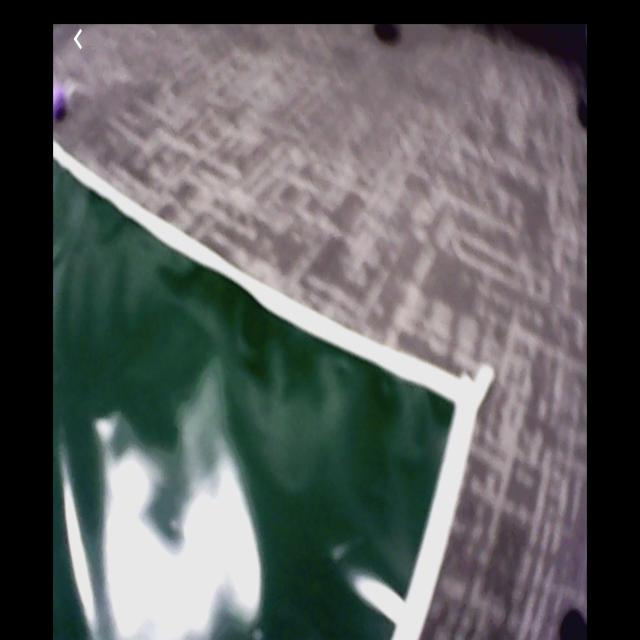ball: (55, 89, 72, 123)
